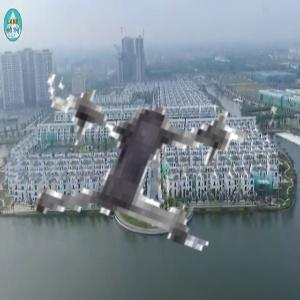drone: (12, 27, 264, 279)
